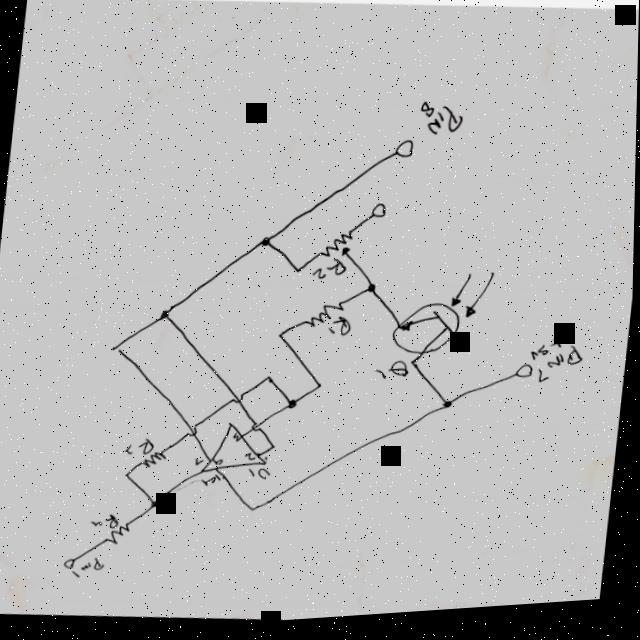crossover: (231, 394, 248, 412), (250, 422, 267, 439), (187, 426, 202, 442)
junction: (443, 403, 456, 417), (408, 362, 421, 376), (367, 286, 380, 300), (260, 239, 273, 253), (160, 310, 173, 324), (111, 344, 124, 358), (275, 332, 288, 346), (314, 383, 327, 397), (287, 402, 300, 416), (268, 444, 281, 458), (248, 507, 261, 521), (151, 499, 164, 513), (122, 469, 135, 483), (294, 269, 307, 282), (262, 375, 275, 388)
resistor: (306, 303, 349, 337), (321, 233, 358, 267), (106, 522, 134, 549), (144, 447, 171, 473)
terminal: (394, 143, 417, 166), (370, 205, 391, 226), (516, 371, 536, 388), (65, 557, 78, 573)
text: (527, 341, 588, 398), (418, 102, 467, 147), (312, 259, 350, 288), (373, 363, 412, 391), (74, 555, 109, 583), (126, 438, 158, 462), (93, 513, 122, 535), (327, 321, 355, 343), (248, 467, 274, 485), (204, 473, 225, 492), (213, 457, 226, 471), (245, 455, 258, 467), (195, 458, 207, 469), (233, 434, 244, 446)
transistor: (391, 269, 498, 371)
